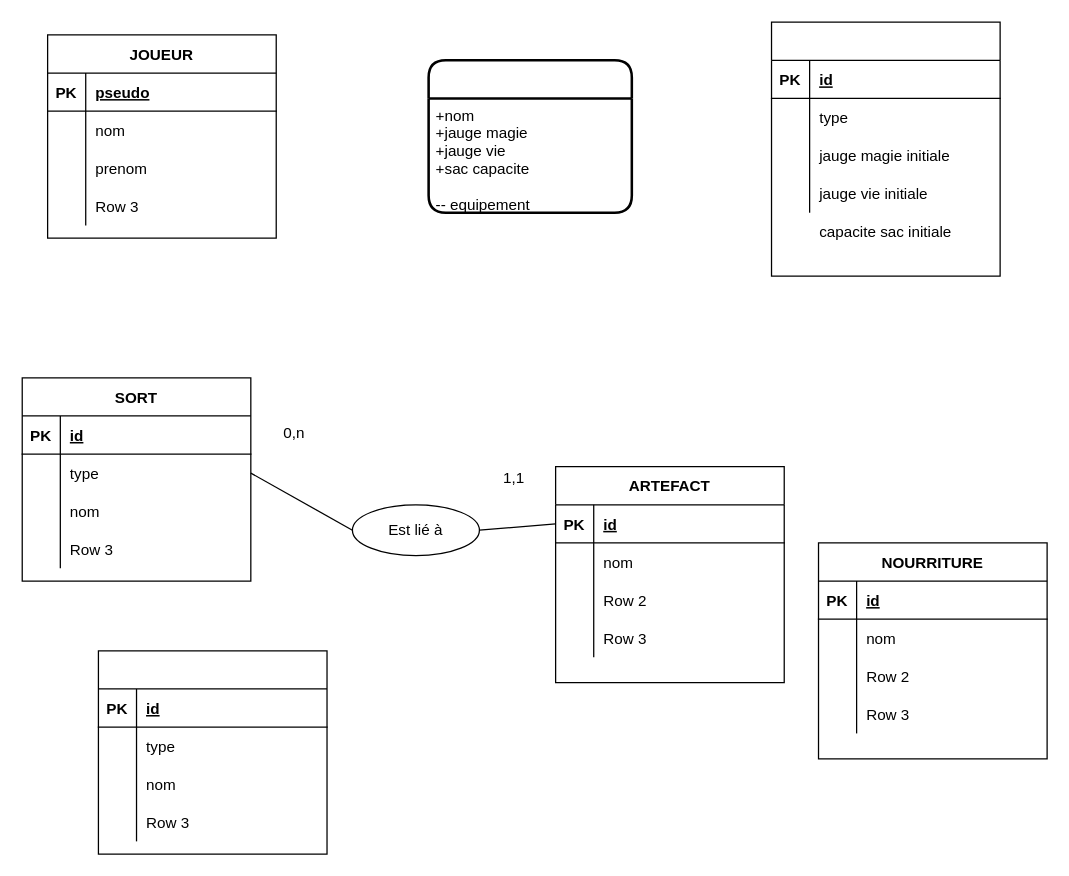
This 1069x876 diagram has some shape labels left out. Each missing label, with the box of its shape:
CLASSE: (770, 21, 1000, 276)
MEMBRE: (427, 58, 632, 213)
TERRAIN: (97, 650, 327, 854)
